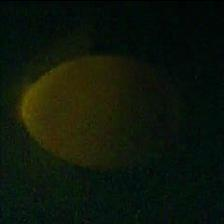fertile: (19, 51, 194, 168)
